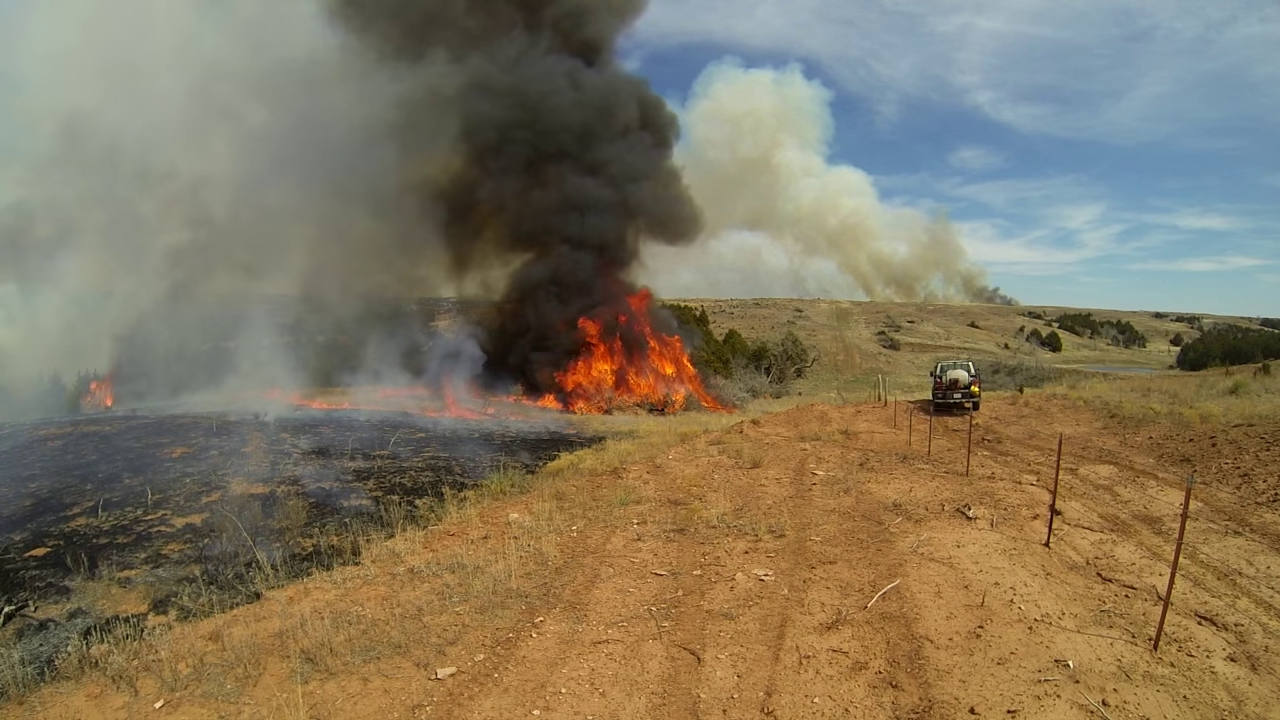forest_fire: (288, 288, 727, 418)
